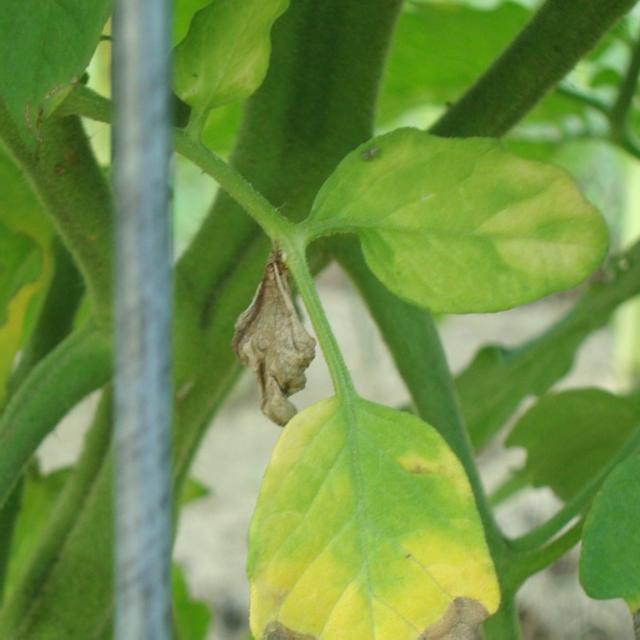Tomato Early blight leaf: (239, 388, 489, 640)
